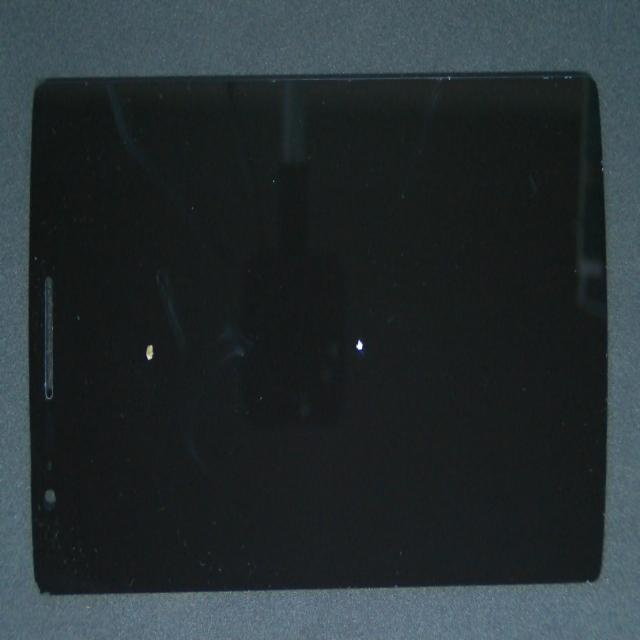stain: (153, 184, 529, 551), (36, 156, 211, 547)
